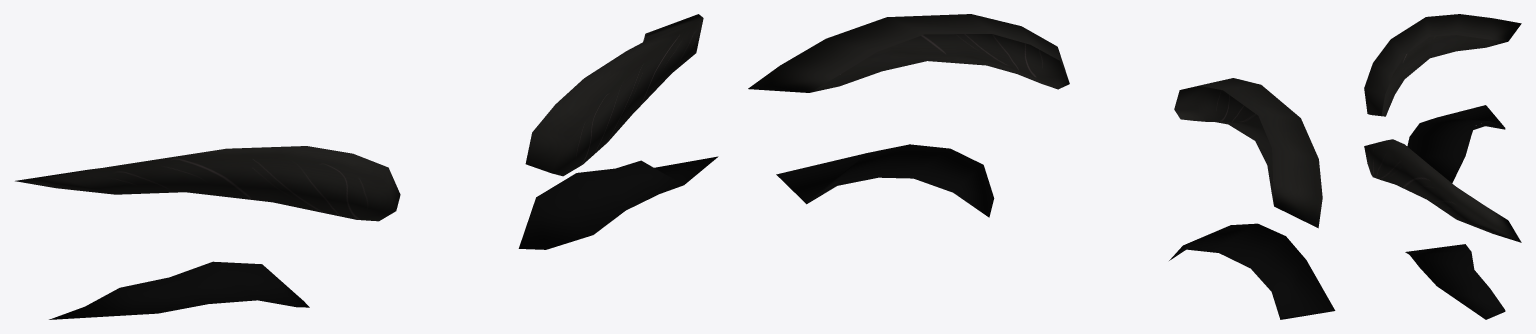
File: brous1.fbx
3 views of the same model, side by side, from view 1: azimuth 30°, elevation 25°; view 2: azimuth 150°, elevation 25°; view 3: azimuth 270°, elevation 25° (orthographic). The views are drawn at different scales.
Parts seen in each view (by area): view 1: brous1; view 2: brous1; view 3: brous1.
Part boxes in pixels (x1=…): brous1: x1=15, y1=14, x2=718, y2=319; brous1: x1=748, y1=14, x2=1335, y2=319; brous1: x1=1364, y1=14, x2=1521, y2=319.
Bounding box in the file's own units: 11.37 × 3.1 × 3.45.
